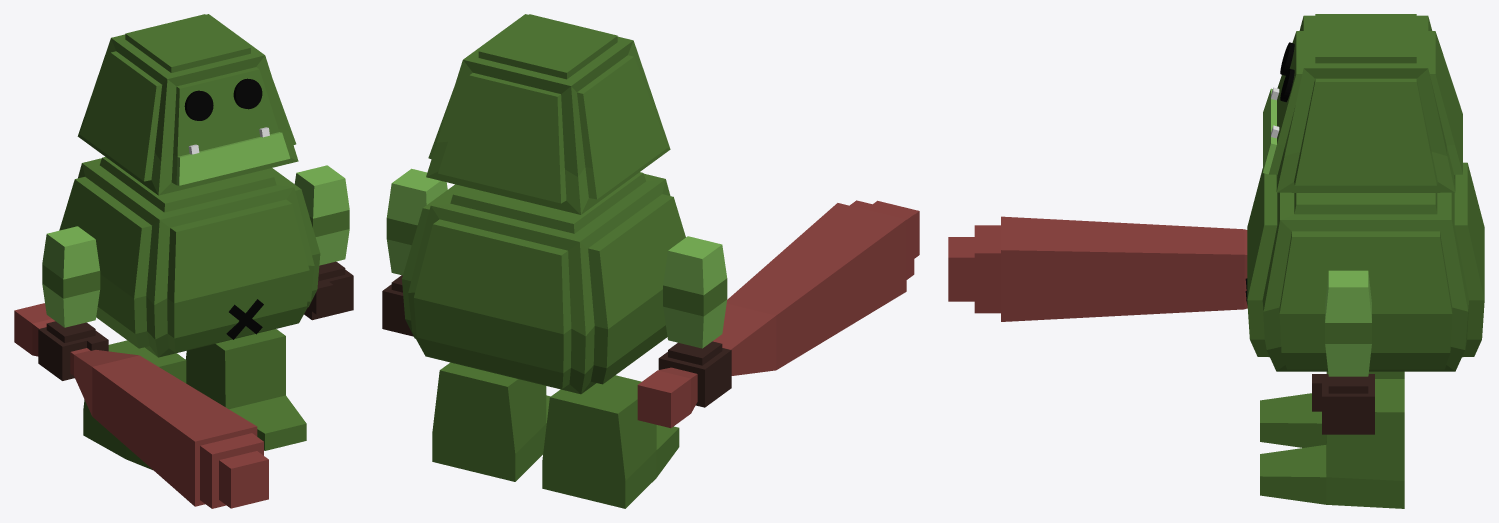
The model's file is Boss1_revision.fbx.
3 views of the same model, side by side, from view 1: azimuth 30°, elevation 25°; view 2: azimuth 150°, elevation 25°; view 3: azimuth 270°, elevation 25° (orthographic). The views are drawn at different scales.
Visible parts, largest first — view 1: Cube.037, Cube.029, Cube.041, Cube.043, Cube.053, Cube.054, Cube.040, Cube.042, Cube.055, Cylinder, Cube.044; view 2: Cube.037, Cube.029, Cube.041, Cube.042, Cube.043, Cube.053, Cube.054, Cube.040, Cube.055; view 3: Cube.037, Cube.029, Cube.041, Cube.043, Cube.054, Cube.055, Cube.042.
Part boxes in pixels (bbox=[...]): Cube.037: bbox=[59, 157, 320, 357]; Cube.029: bbox=[77, 14, 298, 195]; Cube.041: bbox=[14, 303, 268, 508]; Cube.043: bbox=[185, 329, 306, 450]; Cube.053: bbox=[42, 226, 100, 327]; Cube.054: bbox=[294, 165, 349, 265]; Cube.040: bbox=[38, 321, 108, 380]; Cube.042: bbox=[83, 340, 186, 469]; Cube.055: bbox=[304, 261, 353, 320]; Cylinder: bbox=[184, 78, 262, 120]; Cube.044: bbox=[226, 299, 263, 339]; Cube.037: bbox=[402, 172, 685, 394]; Cube.029: bbox=[426, 14, 670, 214]; Cube.041: bbox=[637, 200, 919, 428]; Cube.042: bbox=[542, 375, 679, 508]; Cube.043: bbox=[432, 362, 550, 481]; Cube.053: bbox=[663, 236, 727, 348]; Cube.054: bbox=[386, 168, 447, 275]; Cube.040: bbox=[658, 341, 731, 407]; Cube.055: bbox=[382, 275, 413, 336]; Cube.037: bbox=[1247, 162, 1484, 371]; Cube.029: bbox=[1263, 14, 1462, 192]; Cube.041: bbox=[948, 216, 1247, 321]; Cube.043: bbox=[1260, 379, 1404, 508]; Cube.054: bbox=[1325, 270, 1371, 376]; Cube.055: bbox=[1312, 374, 1374, 434]; Cube.042: bbox=[1260, 371, 1404, 447].
Size of the model in its own units: 622 by 755 by 861.
